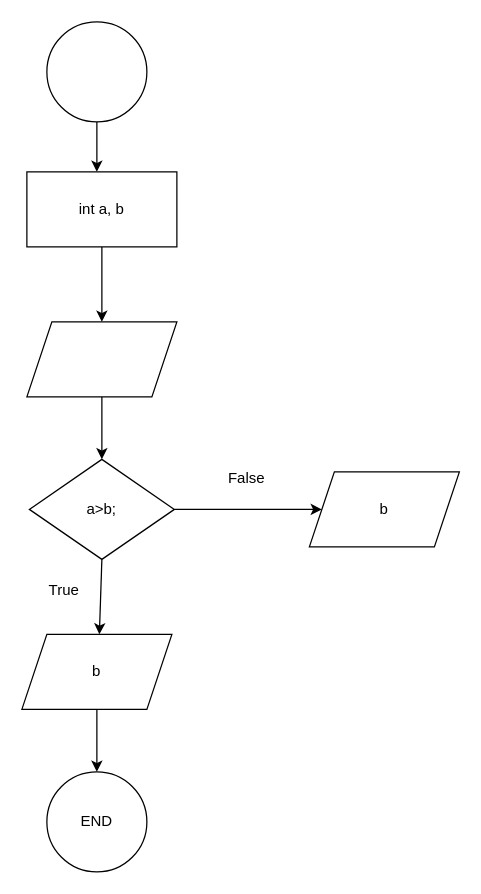
Some shapes in this 481 by 894 pixel diagram are drawn without their labels. Here are the shapes that lost their labels. From the top down, the box of each, then its label:
(46, 21, 147, 122): START
(26, 321, 177, 397): input a, b;
